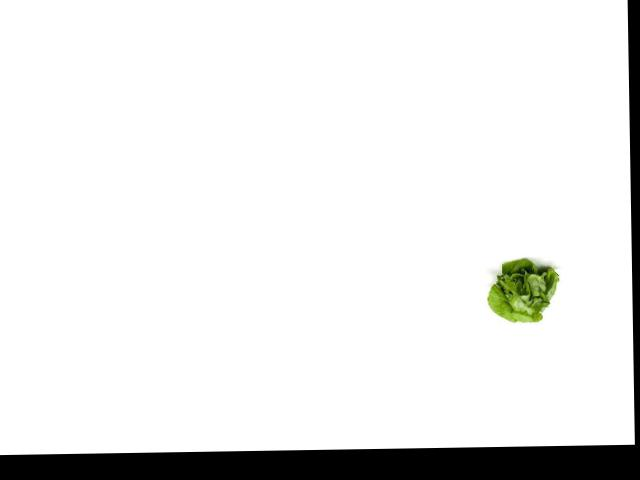lettuce: (485, 254, 561, 329)
